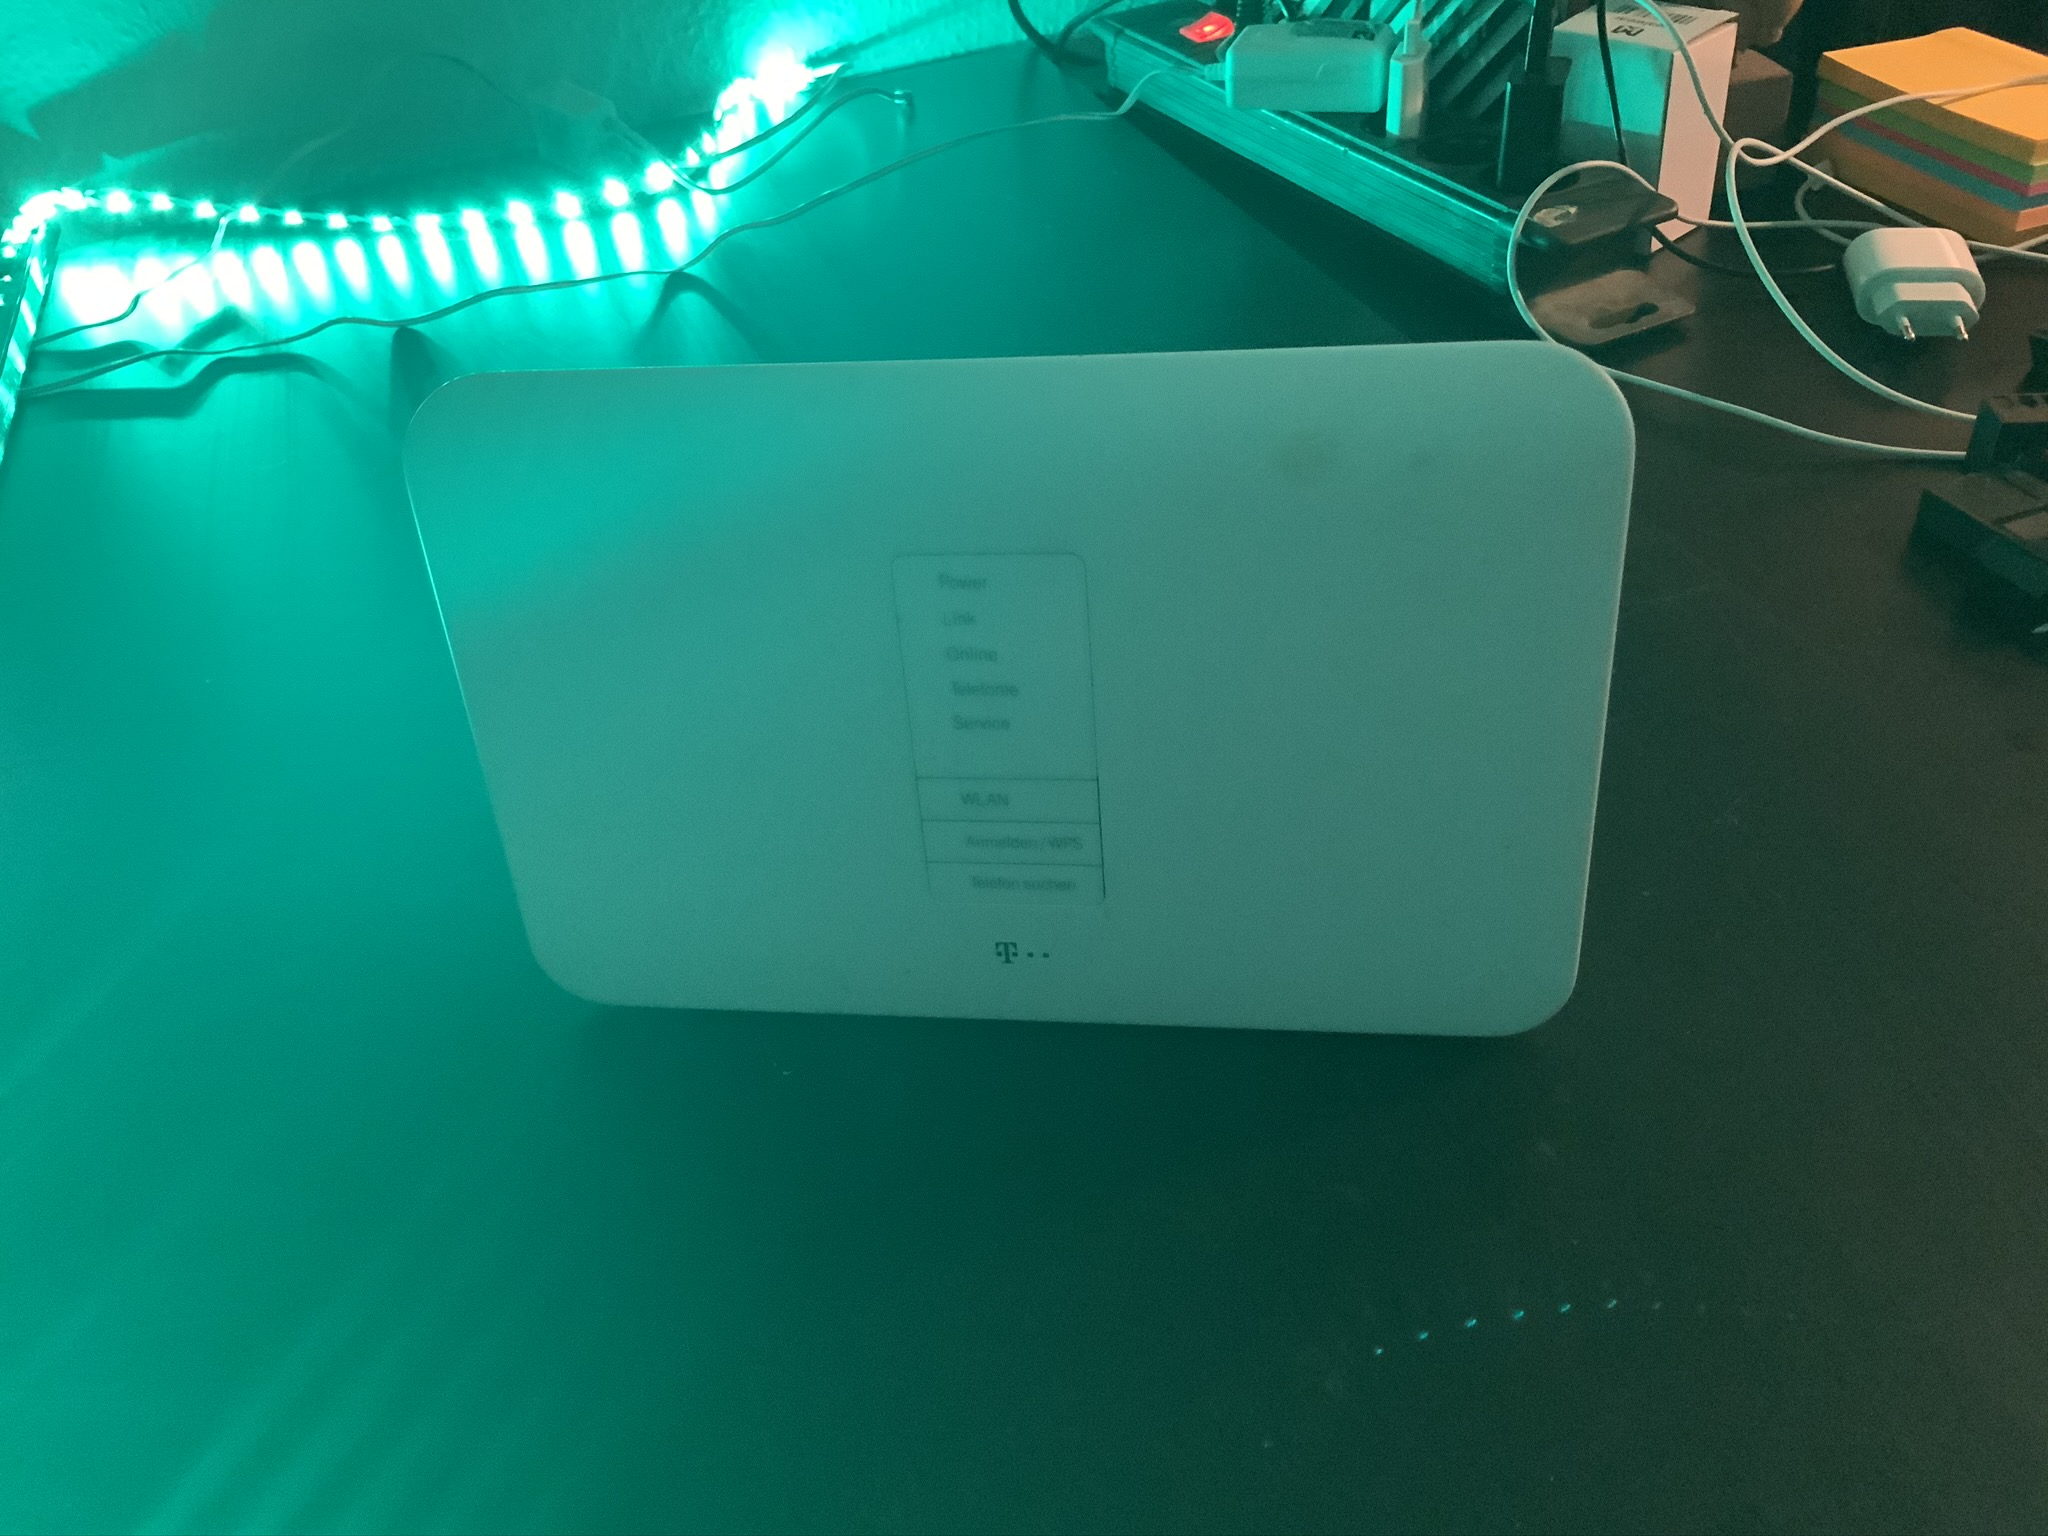router: (400, 326, 1642, 1039)
